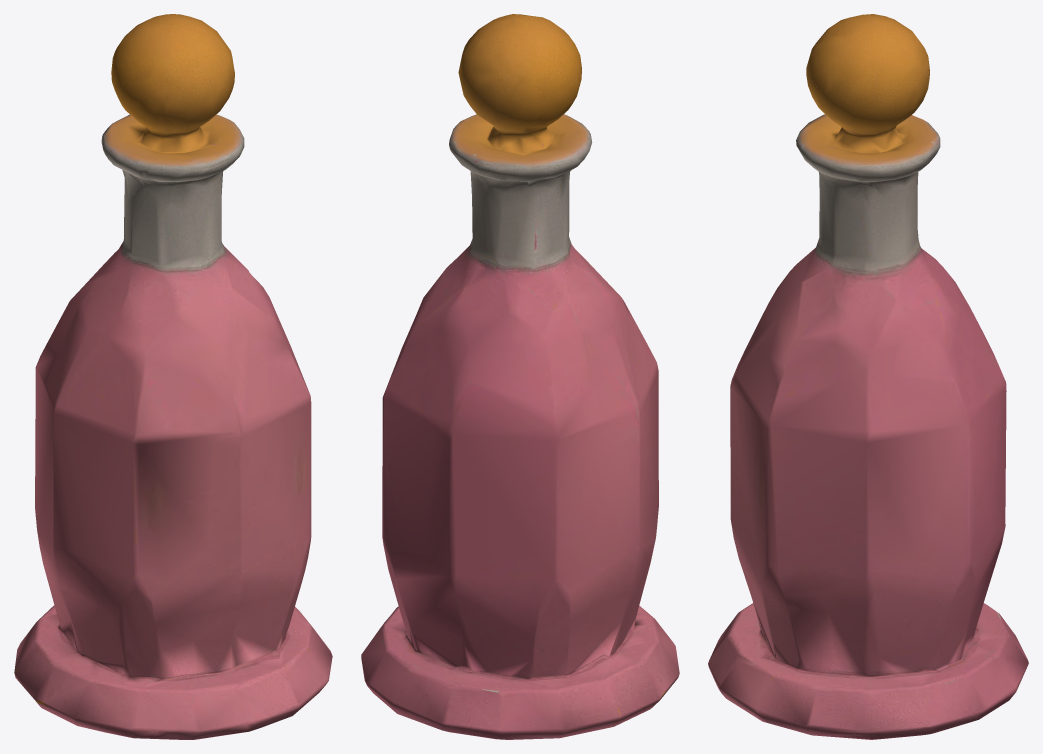
Rendered from token-perfume.glb.
3 views of the same model, side by side, from view 1: azimuth 30°, elevation 25°; view 2: azimuth 150°, elevation 25°; view 3: azimuth 270°, elevation 25° (orthographic).
Size of the model in its own units: 0.8408 by 1.9 by 0.8409.
Materials: 1 (1 with a texture image).
